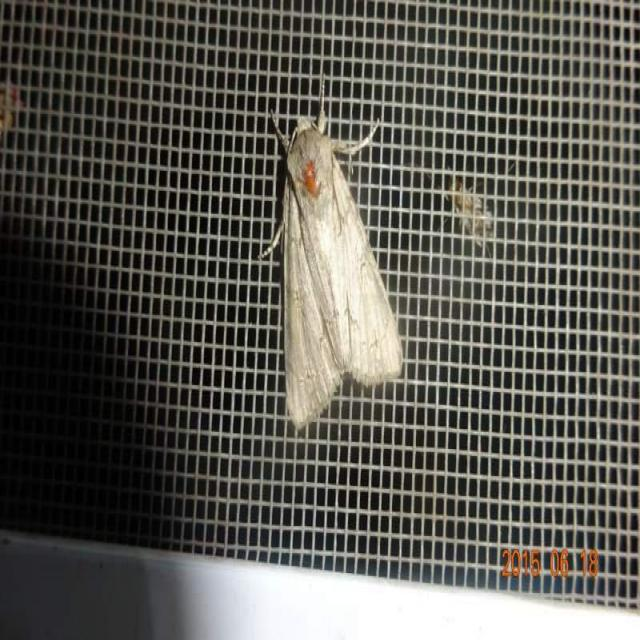BeetArmyWorm-Adult-: (270, 79, 426, 444)
